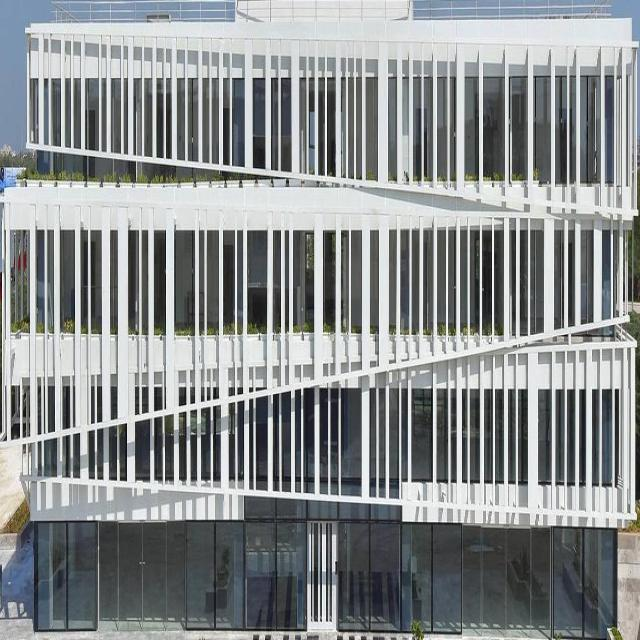door: (306, 518, 340, 637)
railing: (52, 1, 238, 20), (415, 2, 609, 18)
window: (33, 521, 618, 635), (483, 81, 505, 187), (579, 79, 600, 189), (173, 235, 194, 341), (293, 234, 314, 337), (508, 81, 527, 188), (341, 398, 360, 502), (341, 398, 360, 502), (532, 79, 550, 187), (247, 237, 266, 338), (410, 393, 430, 487), (9, 238, 27, 338), (365, 79, 378, 187), (555, 79, 568, 186), (530, 234, 543, 338), (322, 235, 335, 337), (253, 81, 267, 174), (464, 83, 477, 183), (207, 235, 219, 341), (90, 233, 102, 338), (231, 81, 245, 171), (302, 392, 314, 495), (537, 392, 550, 487), (604, 80, 615, 192), (136, 389, 149, 483), (63, 239, 75, 337), (155, 237, 166, 342), (387, 82, 398, 186), (470, 238, 481, 341), (581, 233, 593, 327), (389, 392, 399, 502), (437, 80, 447, 188), (351, 233, 361, 338), (280, 83, 291, 177), (223, 238, 233, 338), (602, 393, 612, 493), (85, 85, 99, 155), (482, 235, 491, 341), (494, 235, 503, 341), (469, 393, 479, 487), (437, 395, 447, 489), (256, 402, 267, 487), (129, 235, 138, 338), (517, 394, 527, 486), (520, 229, 528, 341), (319, 396, 328, 495), (377, 392, 385, 499), (109, 235, 117, 341), (81, 235, 89, 341), (370, 234, 378, 339), (389, 235, 397, 340), (448, 83, 456, 188), (424, 82, 432, 186), (413, 85, 421, 189), (189, 82, 199, 165), (341, 234, 349, 337), (460, 233, 468, 335), (460, 233, 468, 335), (401, 236, 409, 337), (424, 233, 432, 334), (424, 233, 432, 334), (591, 390, 599, 491), (326, 84, 334, 185), (330, 396, 338, 495), (554, 236, 562, 334), (282, 395, 290, 493), (566, 393, 574, 489), (556, 393, 564, 489), (495, 394, 503, 489), (37, 232, 44, 340), (273, 236, 280, 344), (602, 234, 610, 326), (401, 84, 408, 187), (270, 83, 278, 173), (412, 236, 419, 338), (438, 235, 445, 337), (447, 235, 454, 337), (111, 87, 121, 158), (578, 393, 585, 492), (211, 83, 219, 168), (568, 235, 575, 332), (508, 392, 515, 488), (484, 395, 491, 490), (176, 81, 184, 164), (198, 234, 204, 343), (47, 231, 53, 339), (237, 236, 243, 344), (201, 410, 210, 482), (570, 81, 576, 188), (142, 235, 148, 339), (614, 391, 620, 495), (356, 80, 362, 184), (348, 80, 354, 181), (300, 81, 306, 181), (202, 82, 209, 167), (295, 395, 301, 493), (319, 85, 325, 183), (52, 85, 61, 149), (145, 81, 152, 163), (134, 79, 141, 161), (272, 399, 278, 491), (309, 88, 315, 180), (370, 393, 375, 502), (223, 83, 229, 170), (284, 235, 289, 338), (11, 383, 20, 439), (341, 82, 346, 182), (154, 422, 162, 484), (237, 399, 243, 480), (213, 410, 219, 491), (227, 406, 233, 486), (403, 393, 408, 488), (451, 394, 456, 486), (118, 431, 126, 485), (44, 443, 56, 479), (512, 234, 516, 341), (47, 385, 56, 432), (23, 382, 31, 434), (165, 84, 170, 165), (157, 84, 162, 165), (33, 83, 39, 150), (191, 416, 197, 480), (179, 416, 185, 480), (169, 418, 175, 482), (109, 429, 116, 483), (462, 393, 466, 486), (74, 82, 79, 150), (124, 80, 128, 164), (65, 81, 70, 148), (44, 83, 49, 149), (64, 385, 71, 430), (97, 386, 104, 427), (102, 85, 106, 155), (153, 385, 163, 413), (98, 436, 104, 480), (89, 434, 95, 478), (73, 434, 79, 478), (110, 385, 117, 420), (38, 386, 42, 434), (177, 386, 186, 407), (249, 402, 251, 495), (190, 383, 195, 408), (90, 387, 93, 424), (199, 383, 205, 401), (213, 389, 219, 400), (228, 386, 236, 394), (238, 386, 245, 394), (207, 390, 209, 397)
